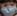with_mask: (2, 1, 17, 16)
